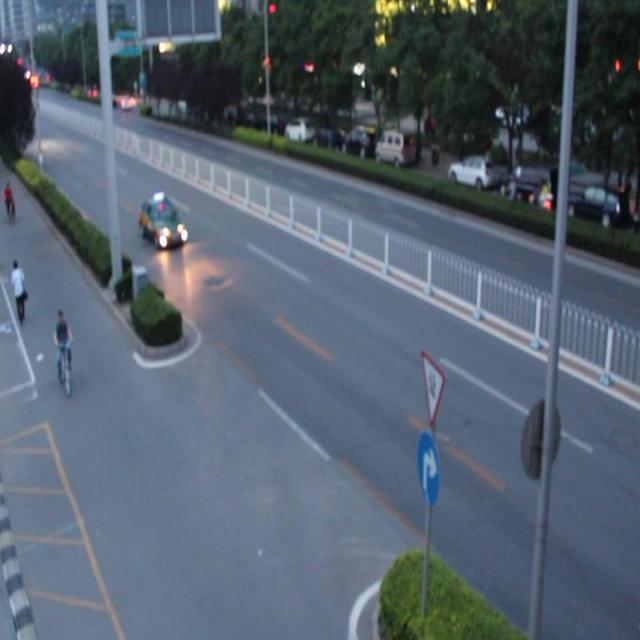car: (139, 195, 186, 251)
